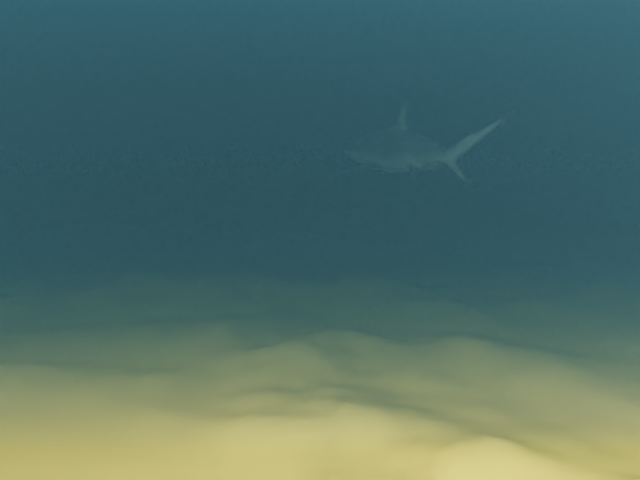Carribean Shark.001: (334, 100, 513, 186)
